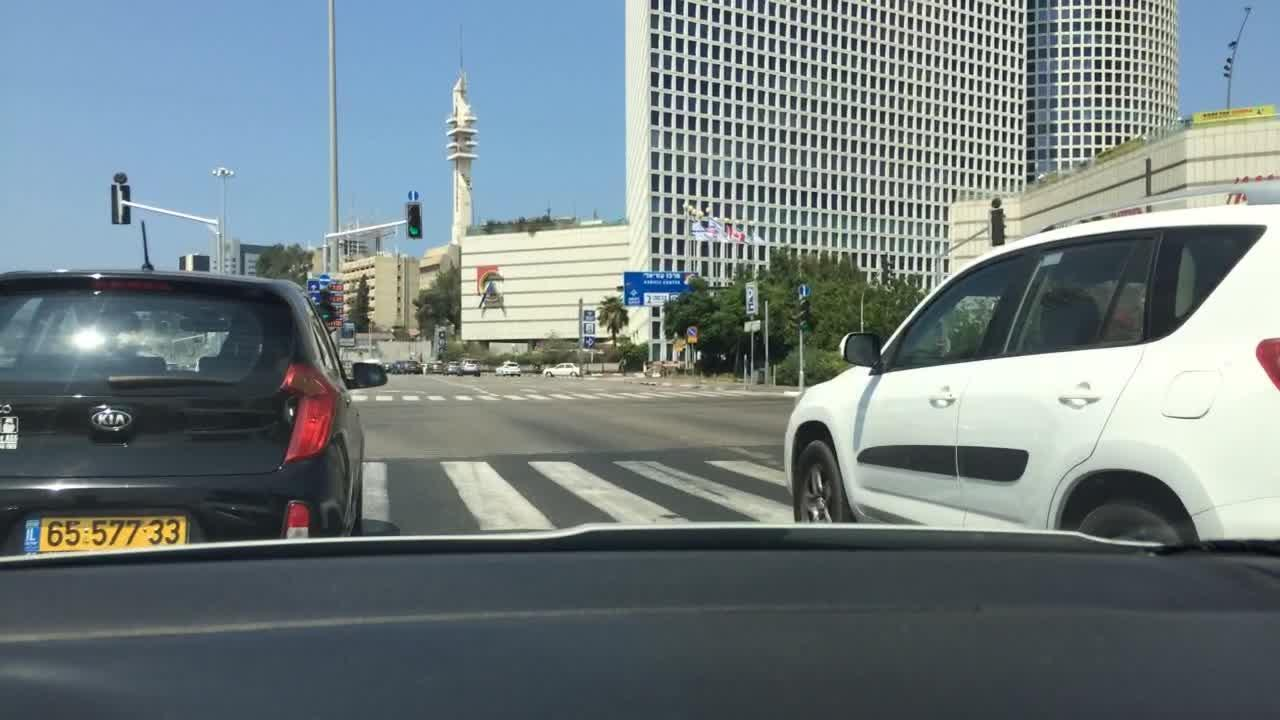kia: (87, 404, 137, 439)
